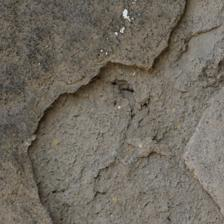Crack: (25, 54, 150, 224), (146, 3, 190, 72)
